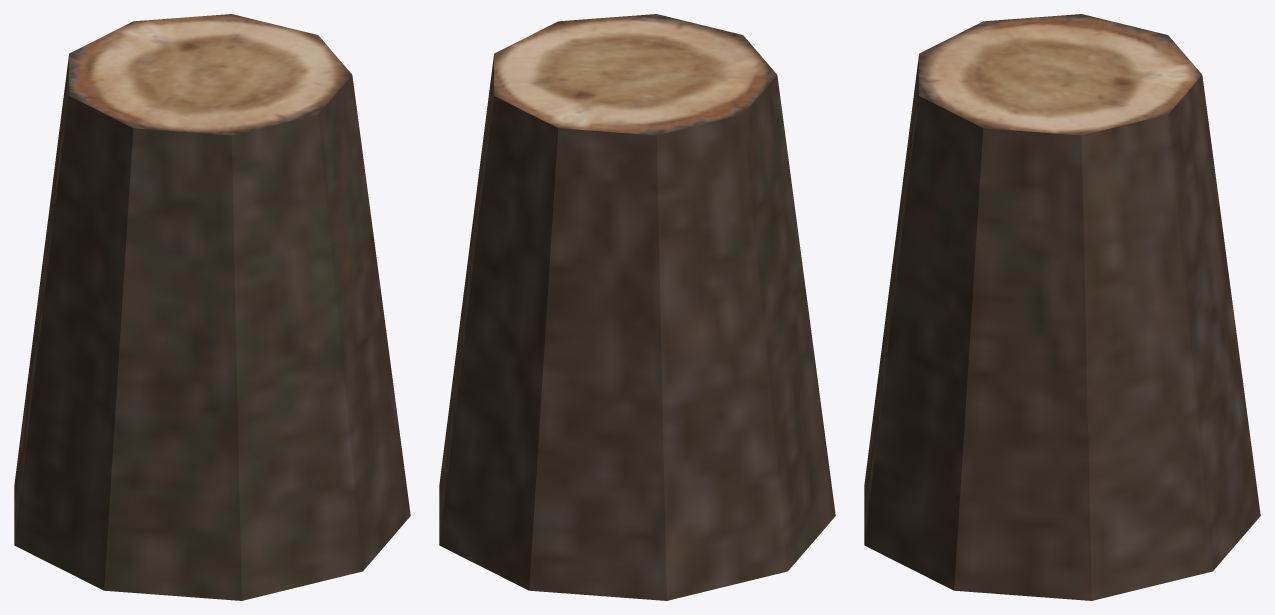
The model's file is sdwsk-timberman-log-stomp.fbx.
3 renders of one model, left to right at view 1: azimuth 30°, elevation 25°; view 2: azimuth 150°, elevation 25°; view 3: azimuth 270°, elevation 25°, orthographic.
Visible parts, largest first — view 1: sdwsk-timberman-log-stomp; view 2: sdwsk-timberman-log-stomp; view 3: sdwsk-timberman-log-stomp.
Boxes of the visible parts, box(x1,y1,x2,y2) form: sdwsk-timberman-log-stomp: box(14, 14, 410, 600); sdwsk-timberman-log-stomp: box(439, 14, 835, 600); sdwsk-timberman-log-stomp: box(864, 14, 1260, 600).
Bounding box in the file's own units: 82.72 × 100 × 81.47.
1 material, 1 textured.
